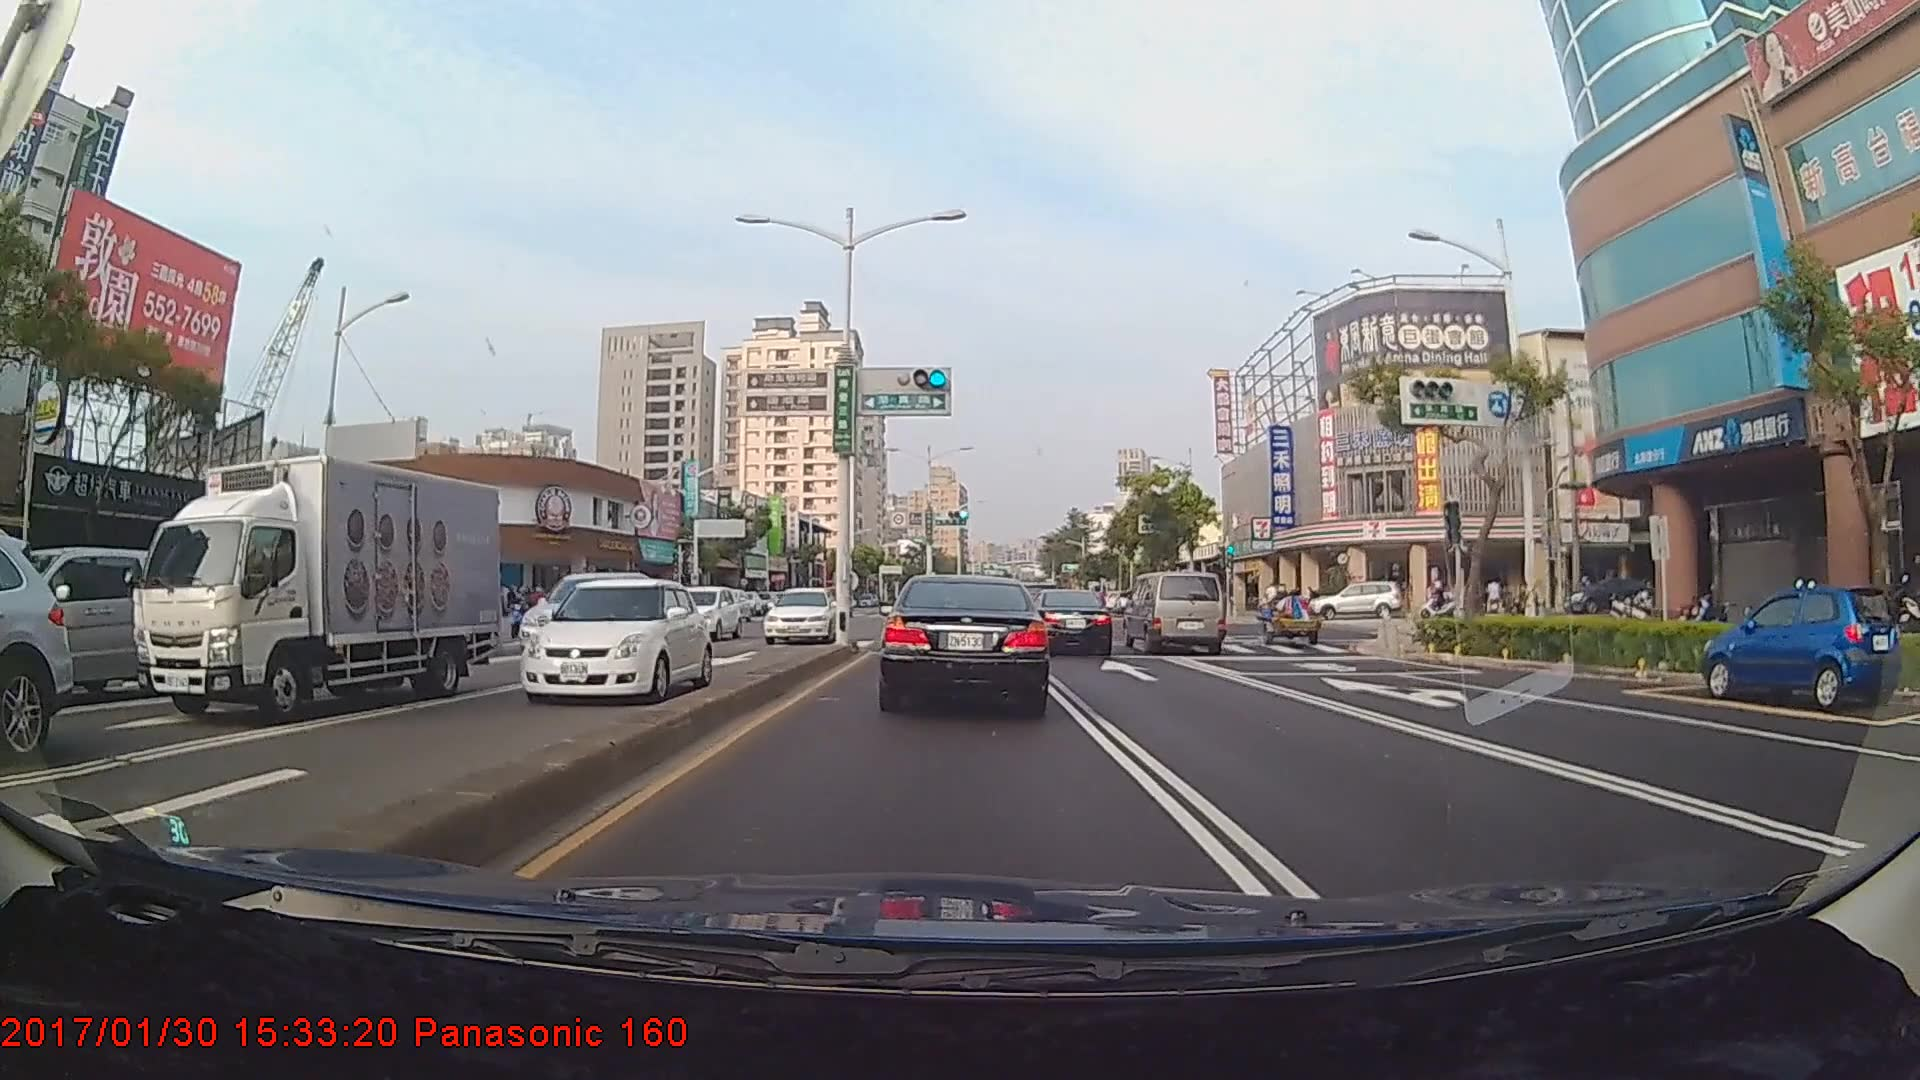vehicle: (125, 448, 505, 725), (0, 543, 190, 696), (1698, 582, 1902, 712), (517, 576, 712, 704), (882, 570, 1050, 713), (0, 516, 73, 775), (512, 566, 657, 665), (1124, 571, 1226, 655), (1029, 589, 1112, 655), (752, 584, 835, 645), (657, 583, 738, 642), (1305, 580, 1407, 622)
